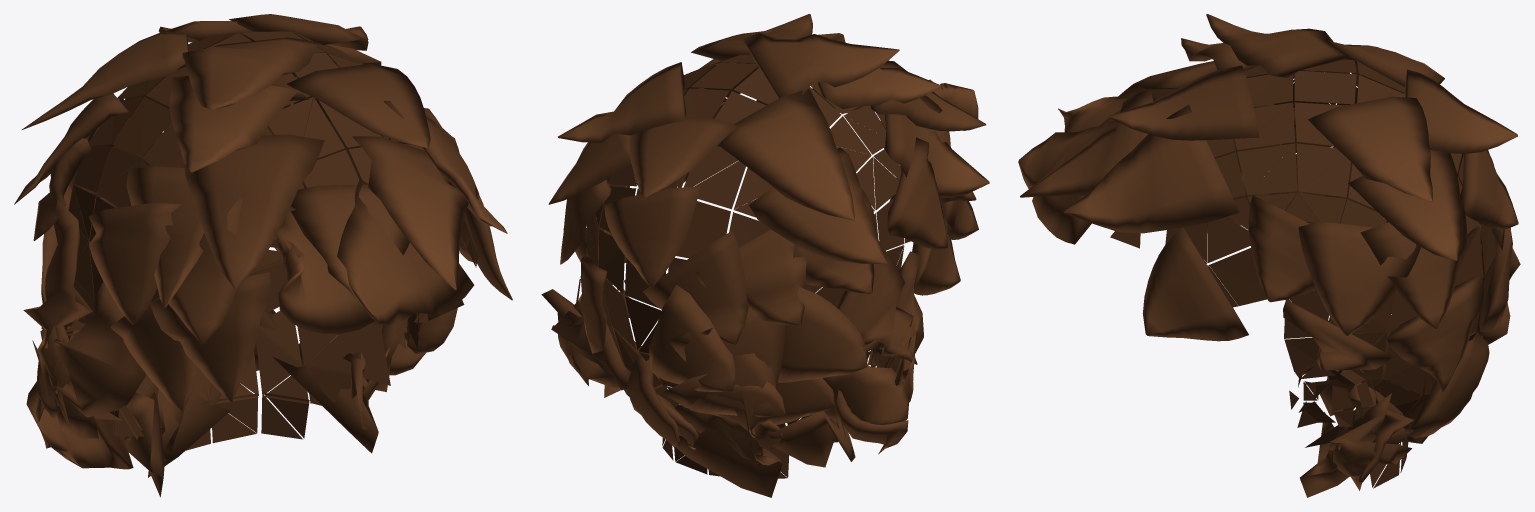
Rendered from kopf.haar.pixie.glb.
3 views of the same model, side by side, from view 1: azimuth 30°, elevation 25°; view 2: azimuth 150°, elevation 25°; view 3: azimuth 270°, elevation 25° (orthographic). The views are drawn at different scales.
Parts seen in each view (by area): view 1: haar; view 2: haar; view 3: haar.
Boxes of the visible parts, x1=… form: haar: x1=14, y1=14, x2=512, y2=497; haar: x1=541, y1=14, x2=989, y2=497; haar: x1=1018, y1=14, x2=1520, y2=497.
Bounding box in the file's own units: 0.2006 × 0.2125 × 0.232.
